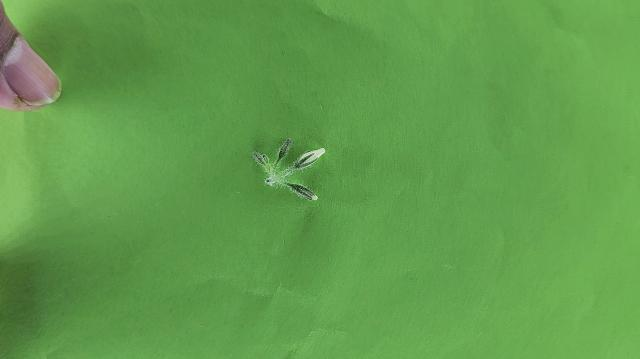Flower Bud: (287, 147, 326, 173), (287, 183, 317, 201), (277, 138, 292, 161), (253, 152, 266, 164)
